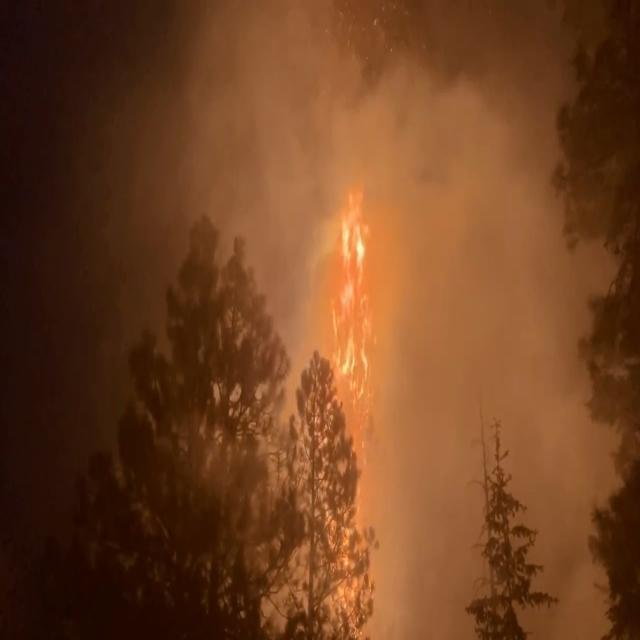Fire: (322, 183, 370, 420)
